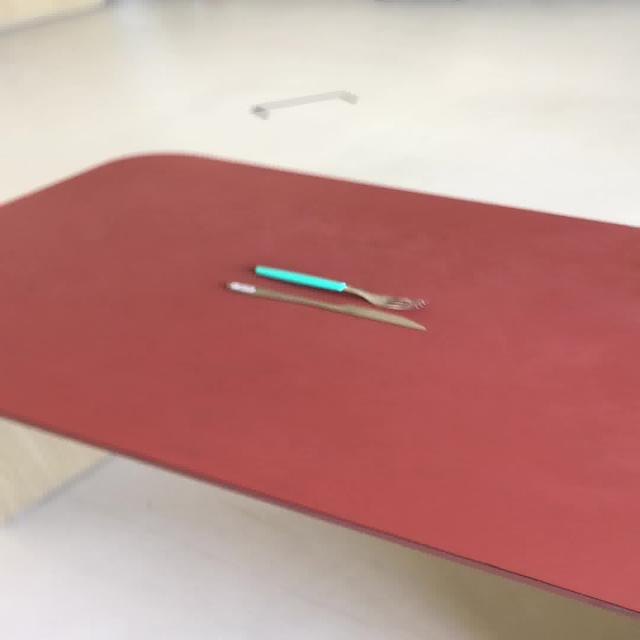fork: (250, 264, 427, 311)
knife fork: (221, 280, 426, 331)
